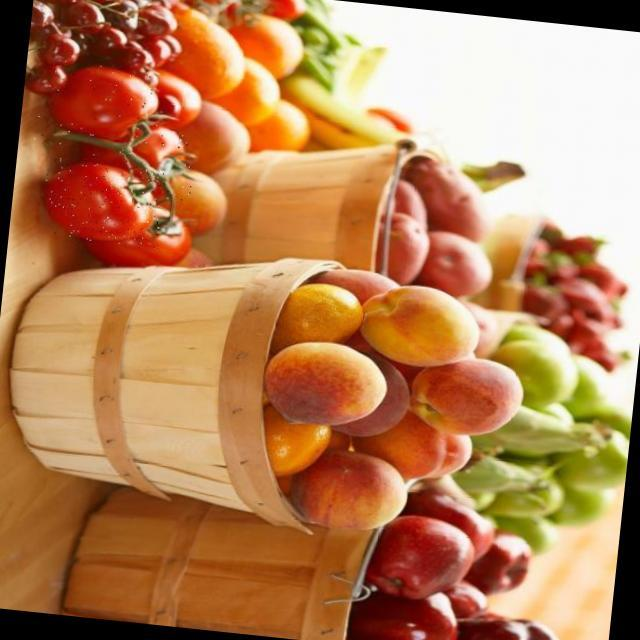Tomate: (47, 111, 198, 217), (31, 57, 170, 164), (39, 157, 165, 248)
